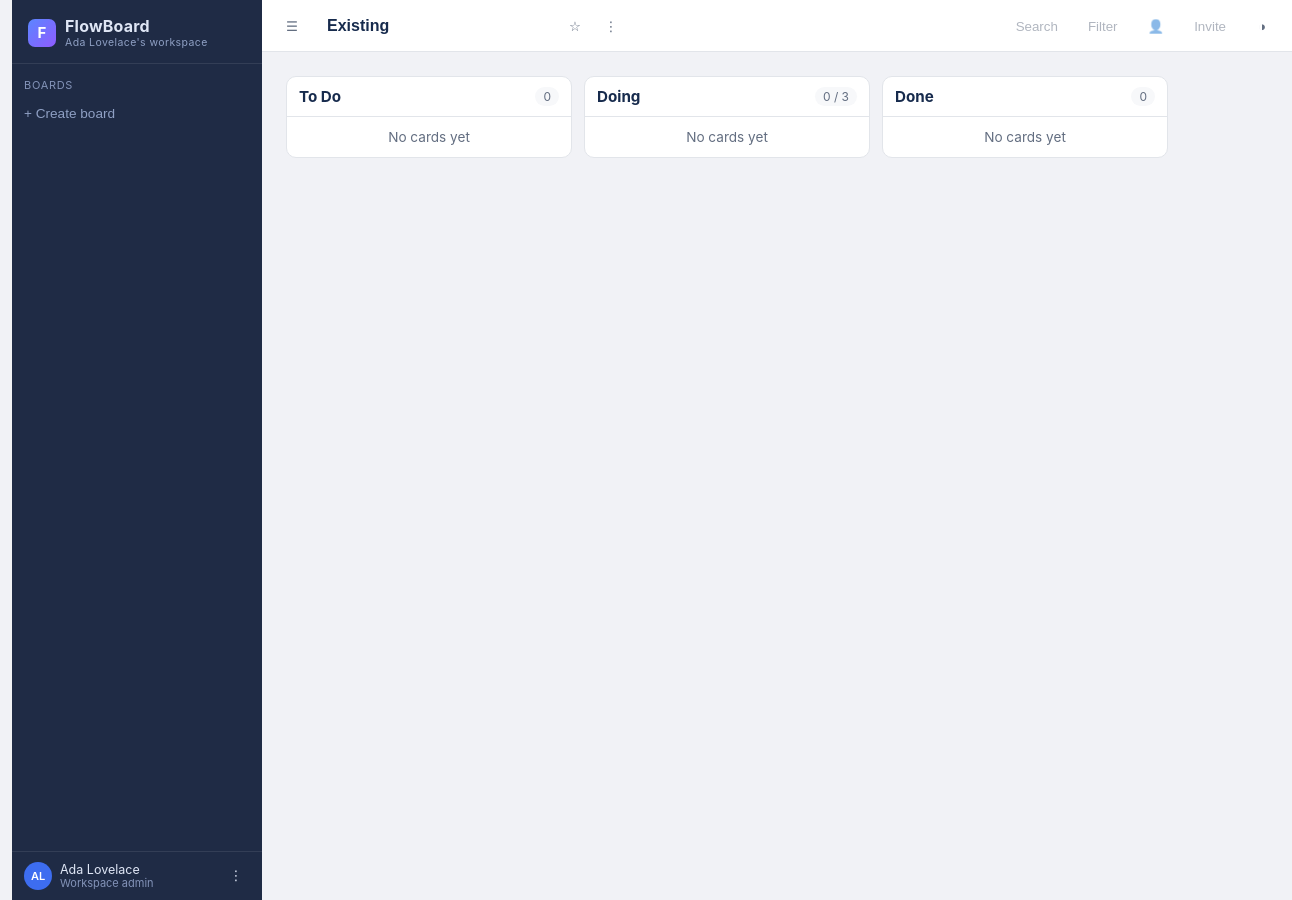
Test: CreateBoard (FS §4.1, B-02, CL-E6, FB-04 spec AC 10) › an empty submit shows the inline required message and sends no request
This screenshot has width=1292, height=900.
Click the button "+ Create board" at point(137, 114), box [12,98,262,129]
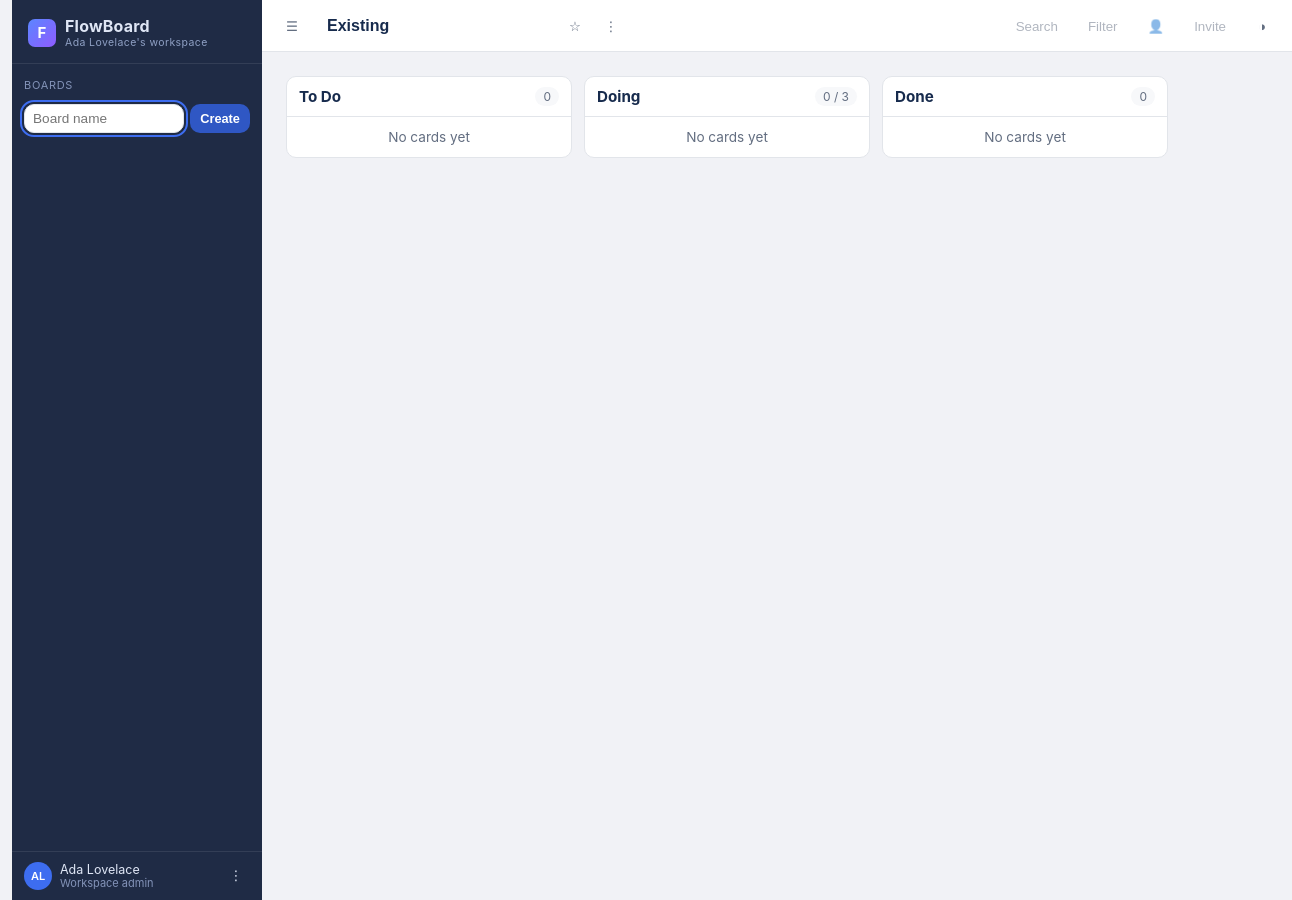
Submit the form with placeholder "Board name", box [12,98,262,139]
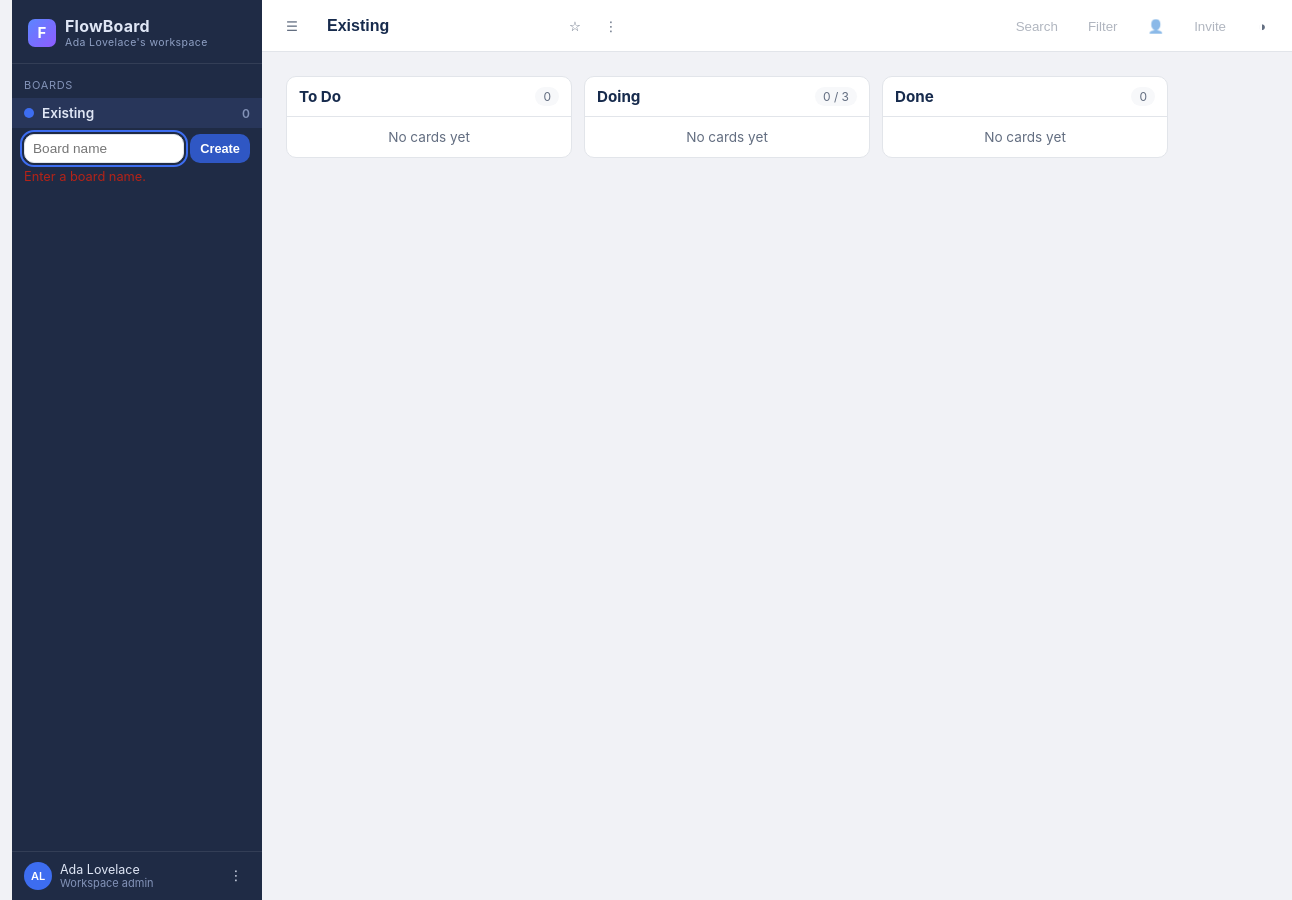
Expected: the text "Enter a board name." is shown, [24,169,146,184]
